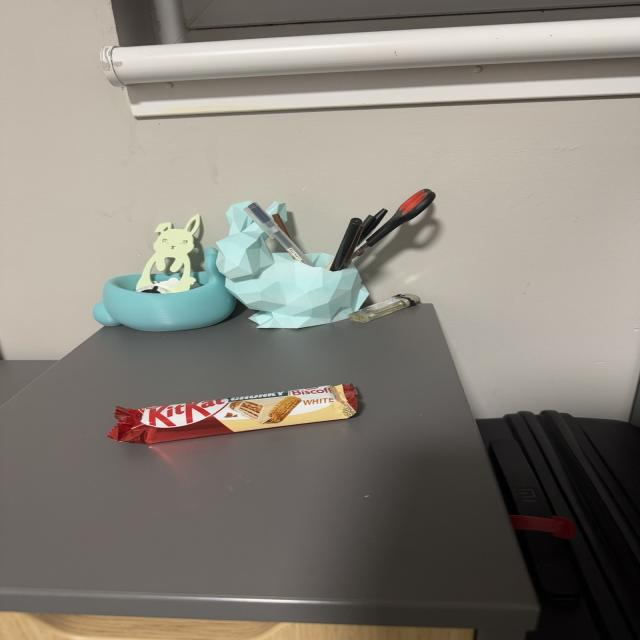chocolate: (110, 378, 365, 446)
